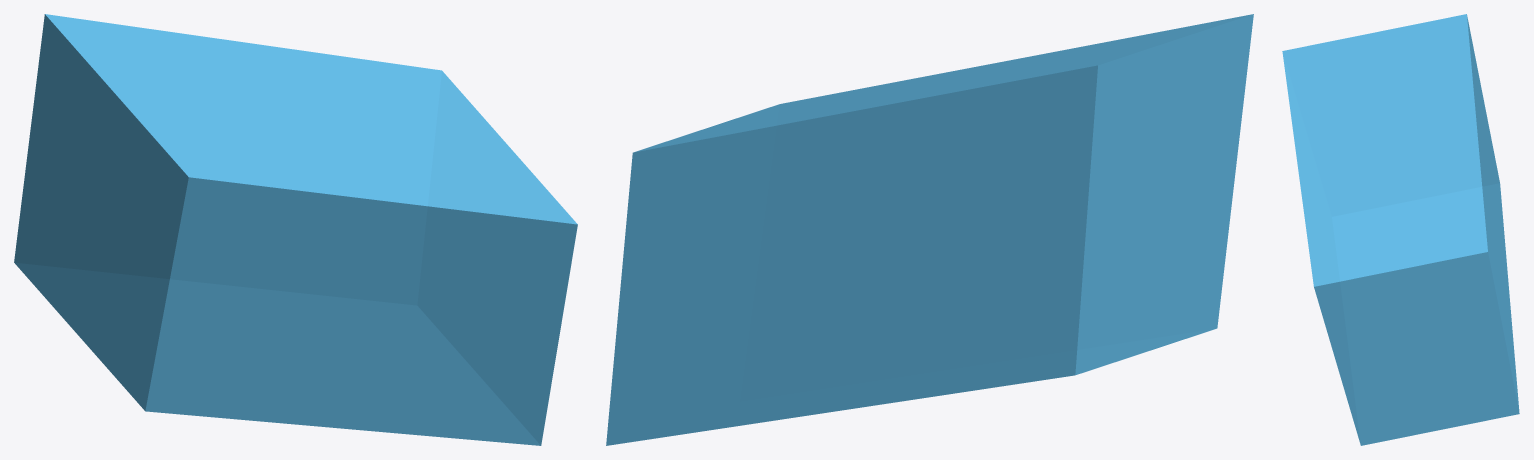
File: Event_420094457_HErechit_54.fbx
3 views of the same model, side by side, from view 1: azimuth 30°, elevation 25°; view 2: azimuth 150°, elevation 25°; view 3: azimuth 270°, elevation 25° (orthographic). The views are drawn at different scales.
Parts seen in each view (by area): view 1: Model; view 2: Model; view 3: Model.
Boxes of the visible parts, x1,y1,x2,y2 form: Model: [14, 14, 577, 445]; Model: [606, 14, 1253, 445]; Model: [1282, 14, 1519, 445].
Bounding box in the file's own units: 0.6669 × 0.7192 × 0.5109.
